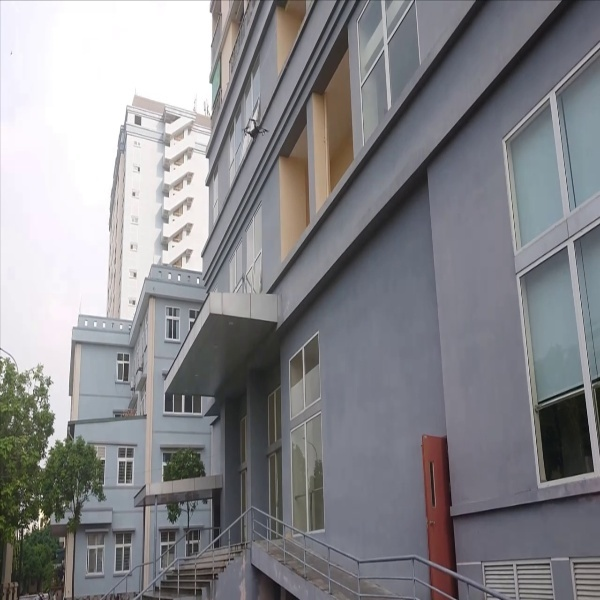drone: (238, 115, 274, 146)
